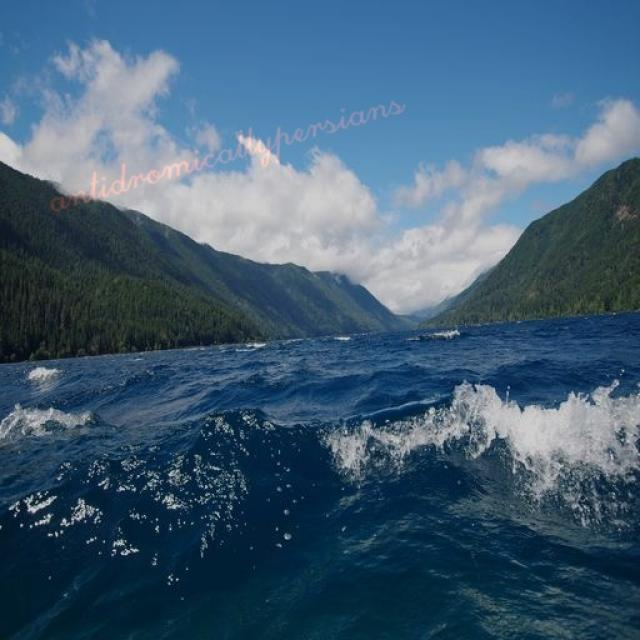watermark: (42, 81, 406, 218)
